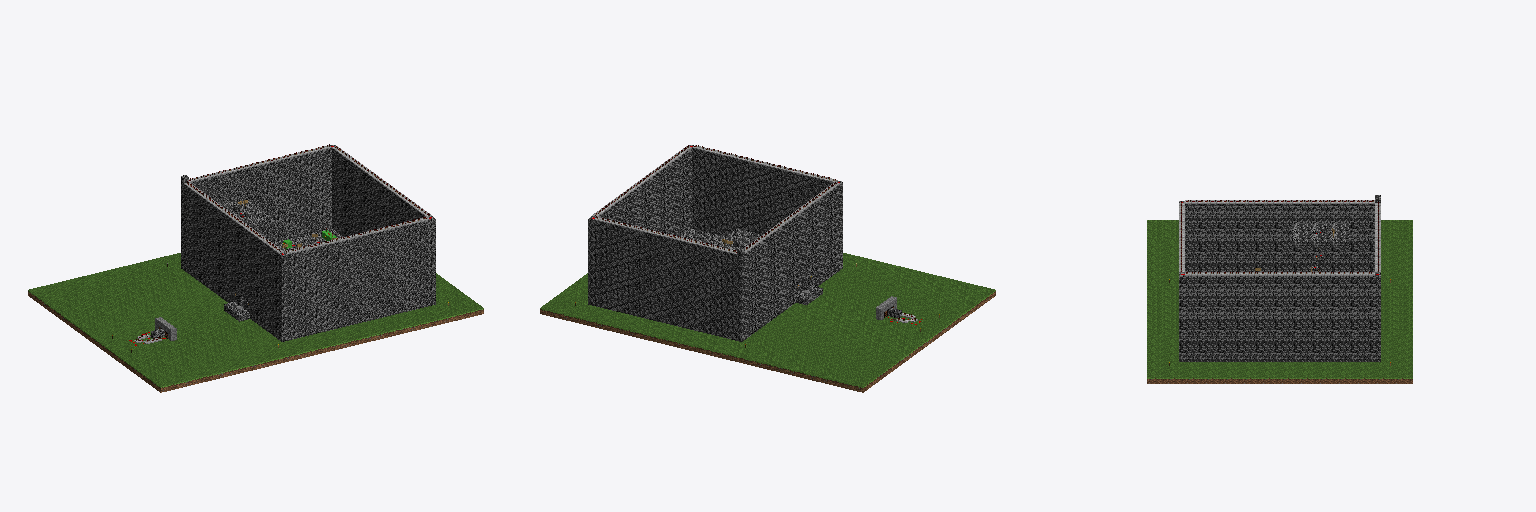
3 renders of one model, left to right at view 1: azimuth 30°, elevation 25°; view 2: azimuth 150°, elevation 25°; view 3: azimuth 270°, elevation 25°, orthographic.
Parts seen in each view (by area): view 1: OMGWTF2__-1282_3_1439_to_-1224_19_1480; view 2: OMGWTF2__-1282_3_1439_to_-1224_19_1480; view 3: OMGWTF2__-1282_3_1439_to_-1224_19_1480.
Part boxes in pixels (left/top/right/bottom): OMGWTF2__-1282_3_1439_to_-1224_19_1480: left=28, top=144, right=483, bottom=392; OMGWTF2__-1282_3_1439_to_-1224_19_1480: left=540, top=145, right=995, bottom=392; OMGWTF2__-1282_3_1439_to_-1224_19_1480: left=1147, top=195, right=1412, bottom=383.
Bounding box in the file's own units: 5.9 × 1.7 × 4.2.
25 materials, 2 textured.